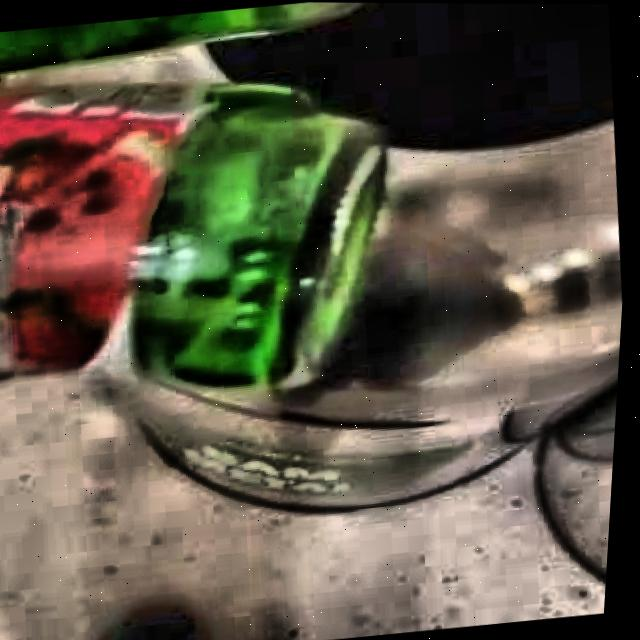glass: (0, 86, 388, 388)
